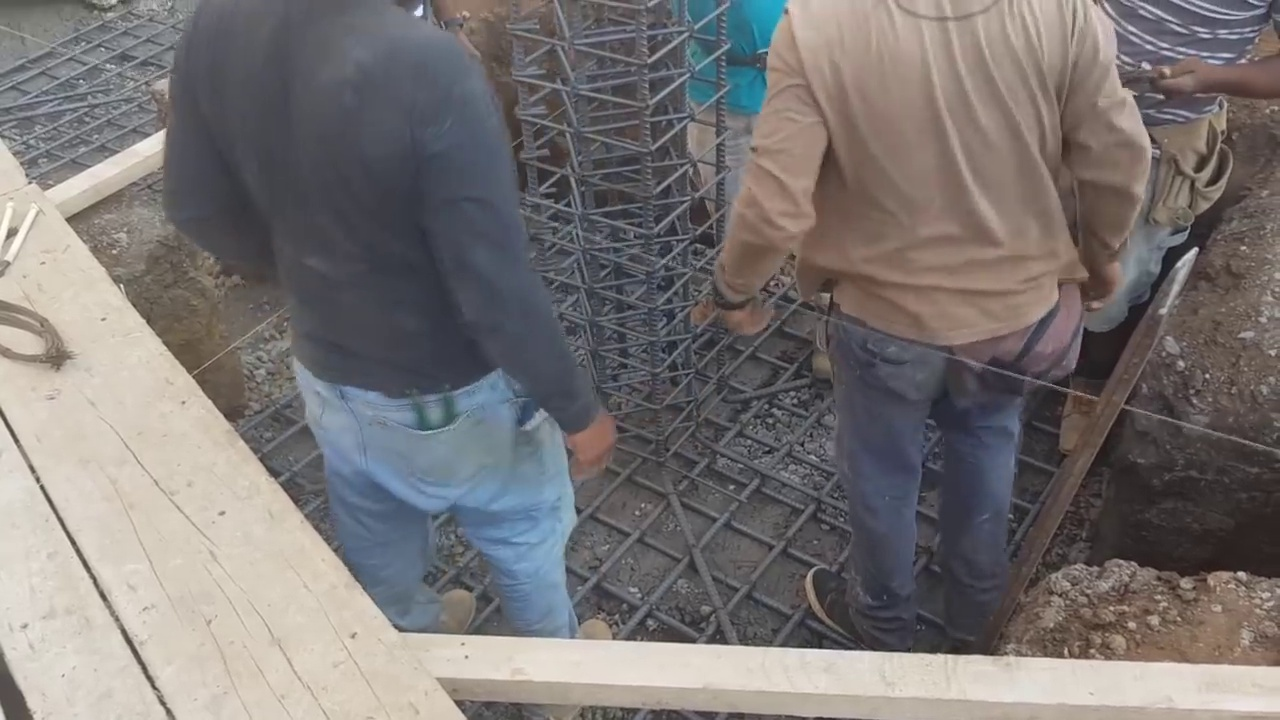person: (164, 0, 625, 643), (712, 0, 1146, 643), (1052, 0, 1280, 452), (667, 0, 777, 225)
